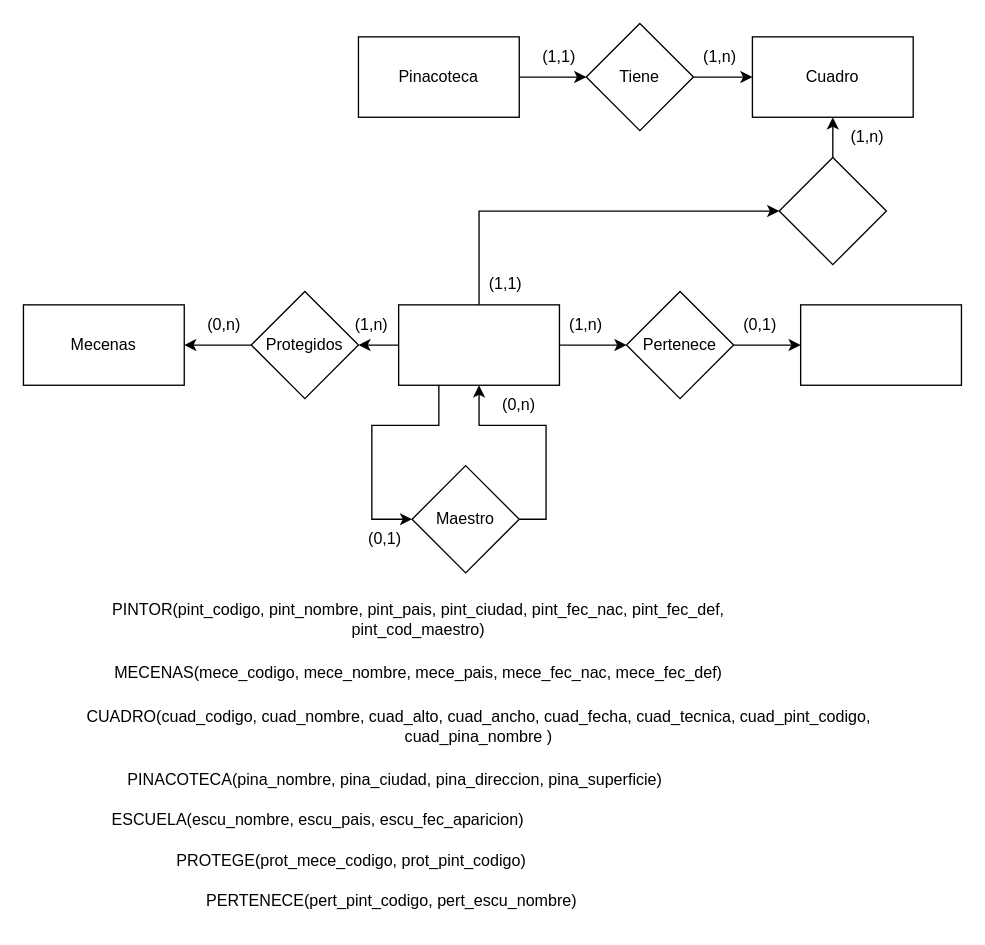
Image size: 985x945. Some labels were removed from this diagram. Here are the shapes that lost their labels. From the top down, the box of each, then its label:
(778, 156, 886, 265): Pintado
(397, 304, 559, 385): Pintor
(799, 304, 961, 385): Escuela
